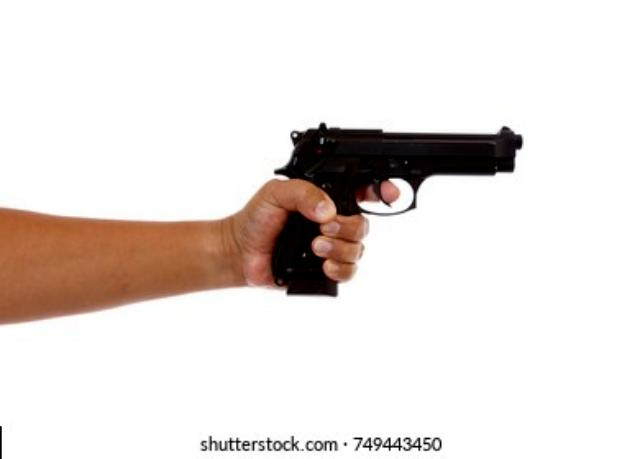pistol: (275, 125, 527, 295)
